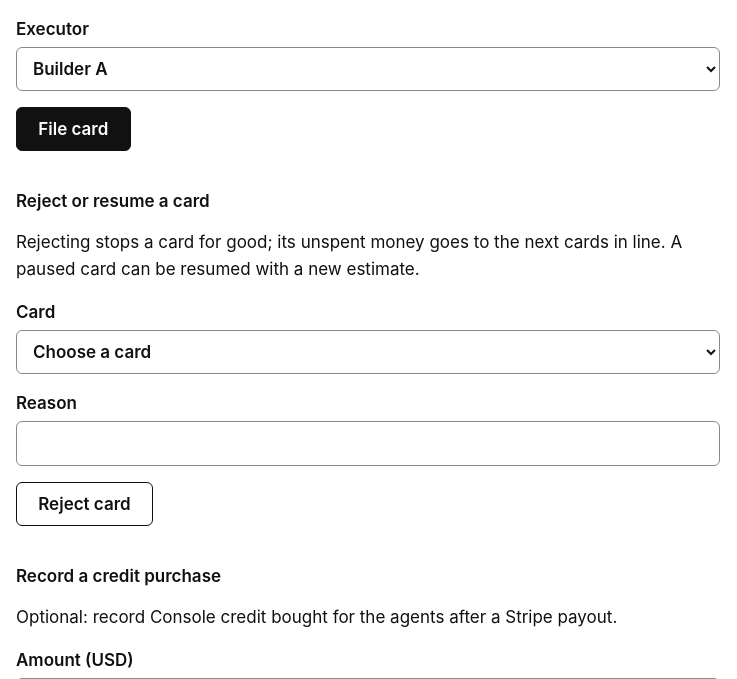
Test: Actions › says no money moved when a rejection moves none
The width and height of the screenshot is (737, 679).
(page scrolled)
Step 1. Select "Empty (proposed)" in the dropdown labelled "Card" → (368, 352), box [16,330,720,374]
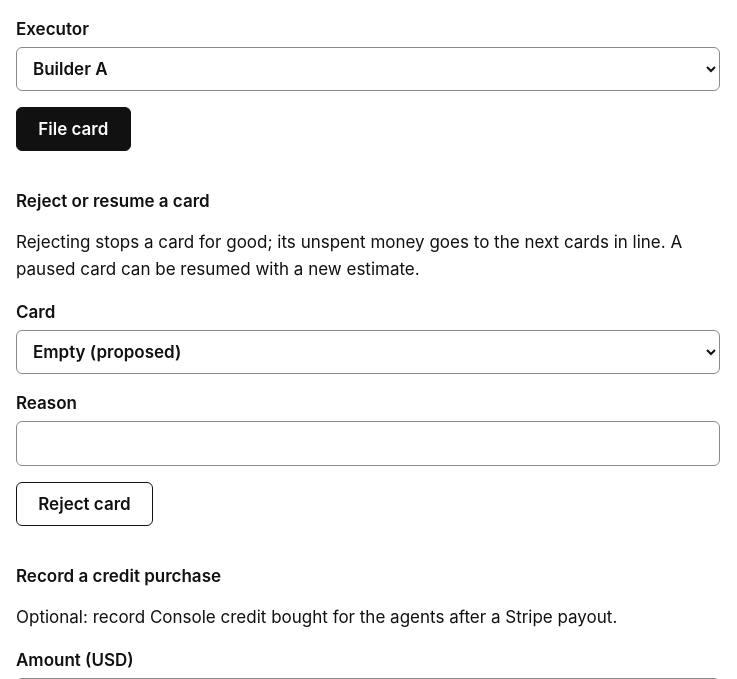
Step 2. Type "No." into the field labelled "Reason" → (368, 444), box [16,421,720,466]
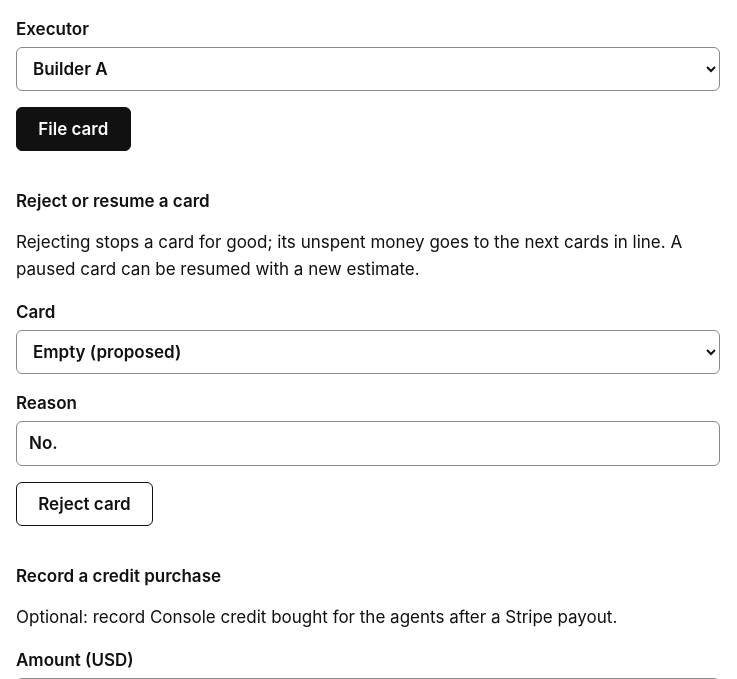
Step 3. Click the button "Reject card" → (84, 504), box [16,482,153,526]
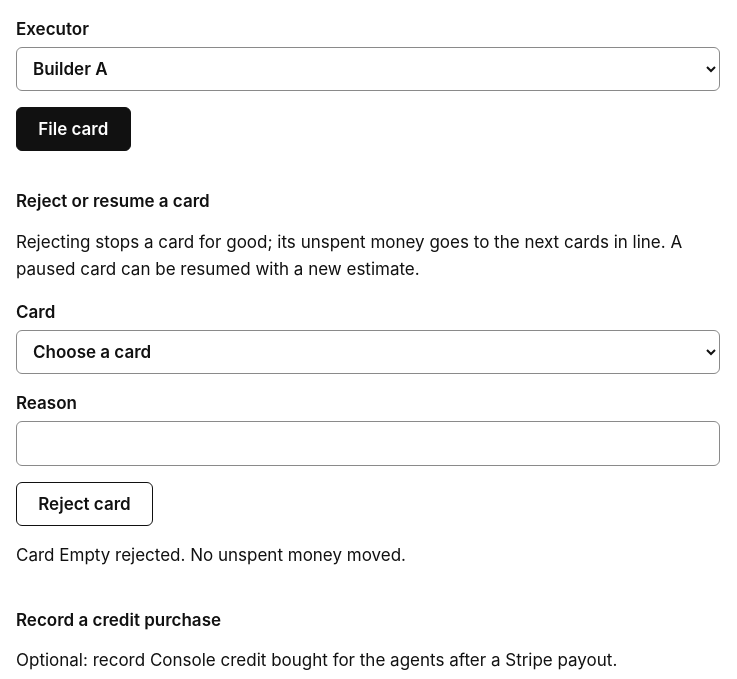
Check: the message reads "Card Empty rejected. No unspent money moved.", box [16,545,406,565]
